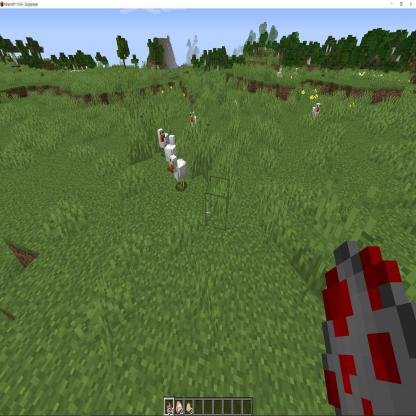minecraft-pigs: (170, 155, 188, 189), (308, 100, 324, 127), (156, 128, 169, 154), (165, 135, 176, 161), (189, 111, 200, 136), (277, 67, 284, 85)
